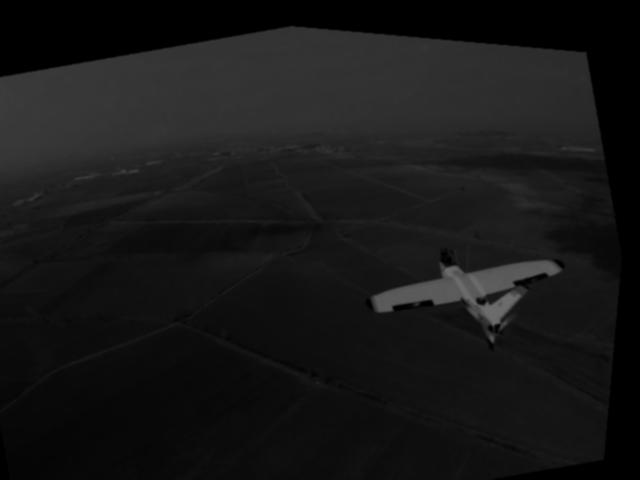hedef: (323, 183, 621, 411)
